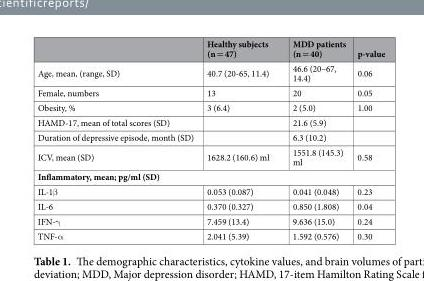table: (36, 37, 384, 241)
table column: (36, 37, 199, 241), (199, 37, 280, 241), (280, 37, 350, 241), (350, 37, 384, 241)
table column header: (36, 37, 384, 60)
table projected row header: (36, 168, 384, 183)
table row: (36, 60, 384, 84), (36, 144, 384, 168), (36, 37, 384, 60), (36, 84, 384, 99), (36, 99, 384, 114), (36, 114, 384, 129), (36, 129, 384, 144), (36, 168, 384, 183), (36, 183, 384, 198), (36, 198, 384, 213), (36, 213, 384, 228), (36, 228, 384, 241)
